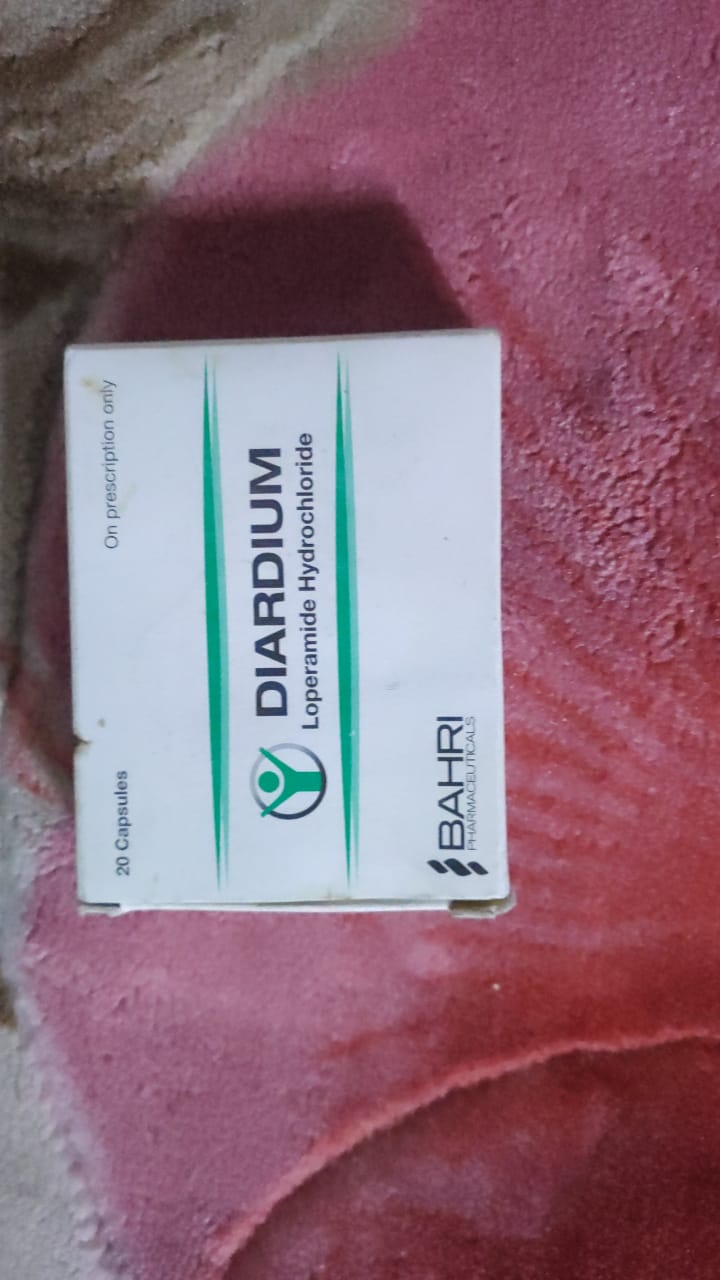Medicine: (57, 310, 523, 940)
